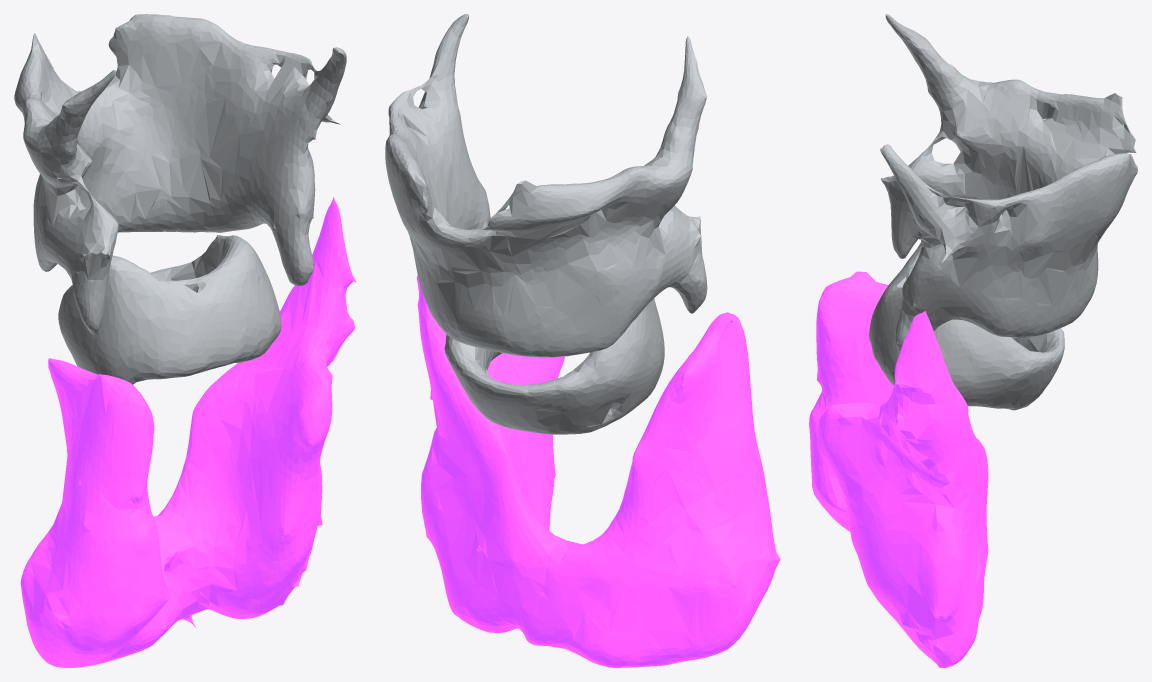
File: schilddruese-spl-manix.glb
3 views of the same model, side by side, from view 1: azimuth 30°, elevation 25°; view 2: azimuth 150°, elevation 25°; view 3: azimuth 270°, elevation 25° (orthographic). The views are drawn at different scales.
Visible parts, largest first — view 1: 0:0:Glandula_thyroidea, 0:1:Cartilago_thyroidea, 0:2:Cartilago_cricoidea; view 2: 0:0:Glandula_thyroidea, 0:1:Cartilago_thyroidea, 0:2:Cartilago_cricoidea; view 3: 0:1:Cartilago_thyroidea, 0:0:Glandula_thyroidea, 0:2:Cartilago_cricoidea.
Boxes of the visible parts, bbox=[...] form: 0:0:Glandula_thyroidea: bbox=[20, 197, 356, 667]; 0:1:Cartilago_thyroidea: bbox=[14, 14, 346, 334]; 0:2:Cartilago_cricoidea: bbox=[58, 235, 281, 384]; 0:0:Glandula_thyroidea: bbox=[416, 275, 780, 667]; 0:1:Cartilago_thyroidea: bbox=[385, 14, 707, 357]; 0:2:Cartilago_cricoidea: bbox=[444, 298, 664, 434]; 0:1:Cartilago_thyroidea: bbox=[880, 14, 1137, 352]; 0:0:Glandula_thyroidea: bbox=[809, 271, 988, 667]; 0:2:Cartilago_cricoidea: bbox=[869, 242, 1064, 410].
Bounding box in the file's own units: 0.043 × 0.0753 × 0.0392.
